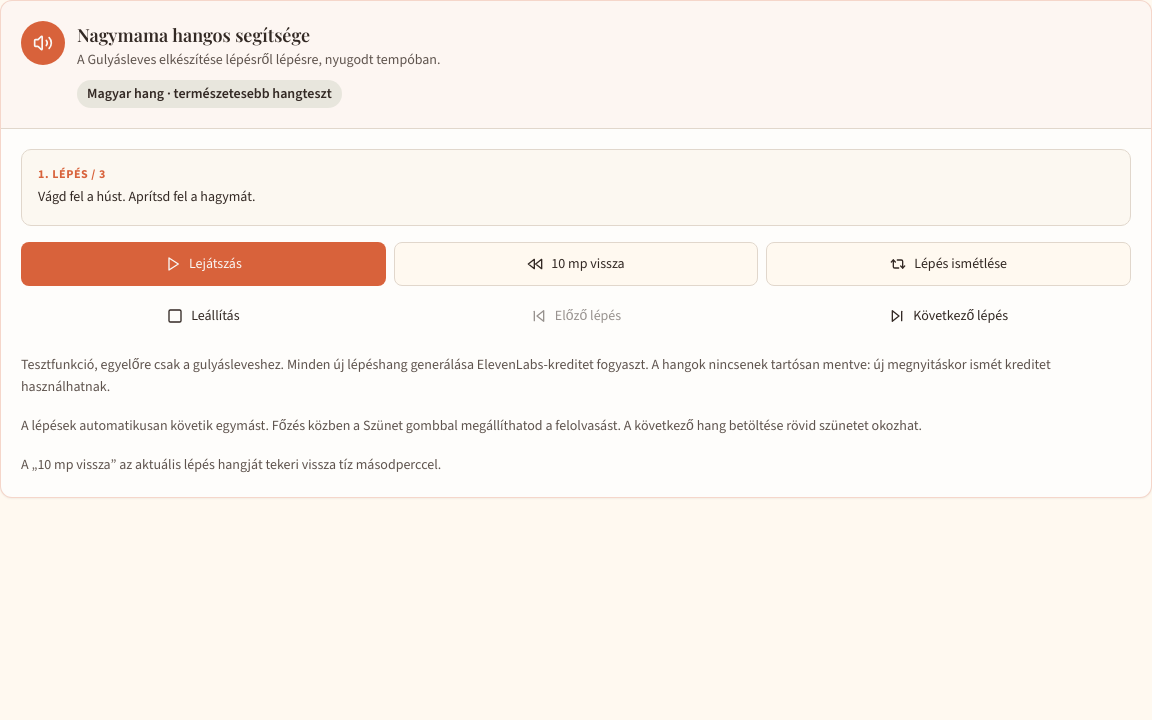
Test: Hungarian and English custom voice guidance › shows a localized service error and can retry without a browser fallback (hu)
This screenshot has width=1152, height=720.
Click the button "Lejátszás": (203, 264) [21, 242, 386, 286]
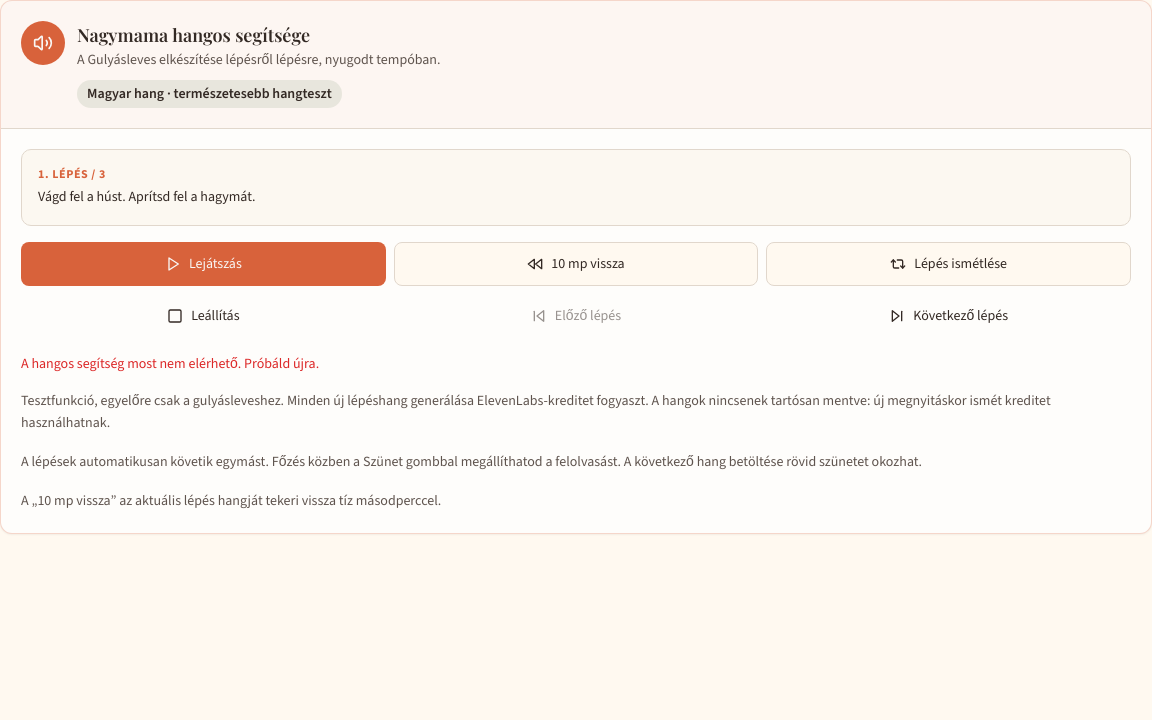
Check: the message shows "A hangos segítség most nem elérhető", box [21, 354, 319, 372]
Click the button "Lejátszás": (203, 264) [21, 242, 386, 286]
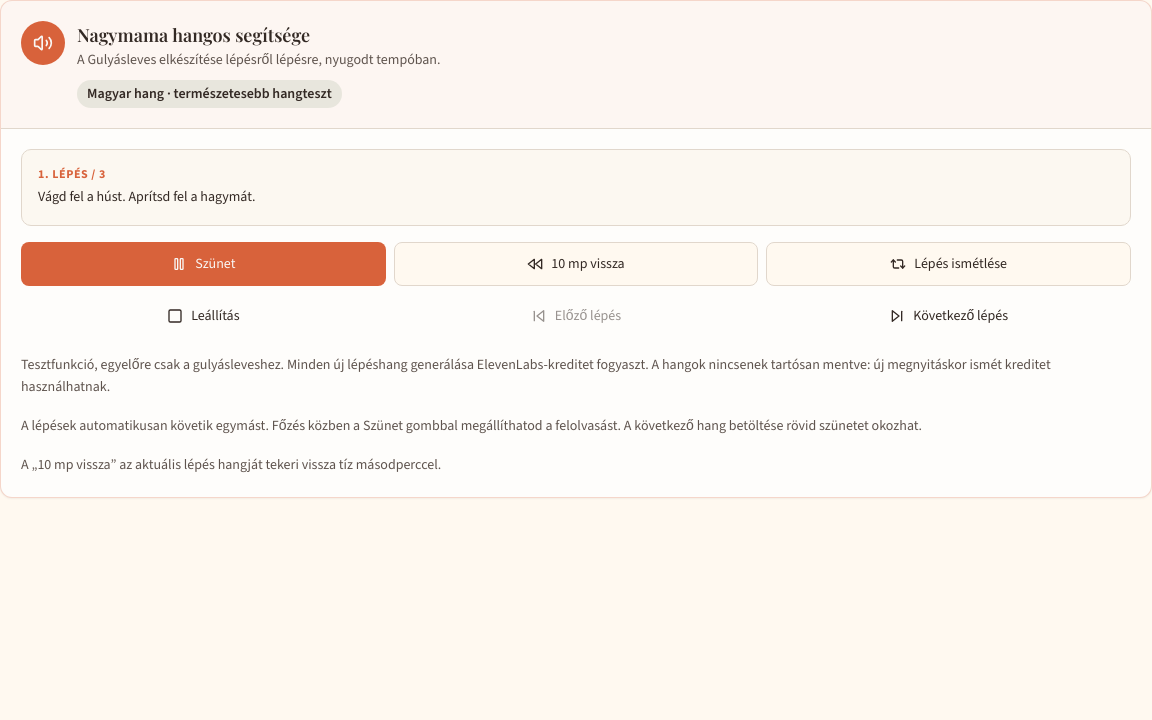
Check: the button "Szünet" is shown, box [21, 242, 386, 286]
Check: the message "A hangos segítség most nem elérhető. Próbáld újra." is gone
